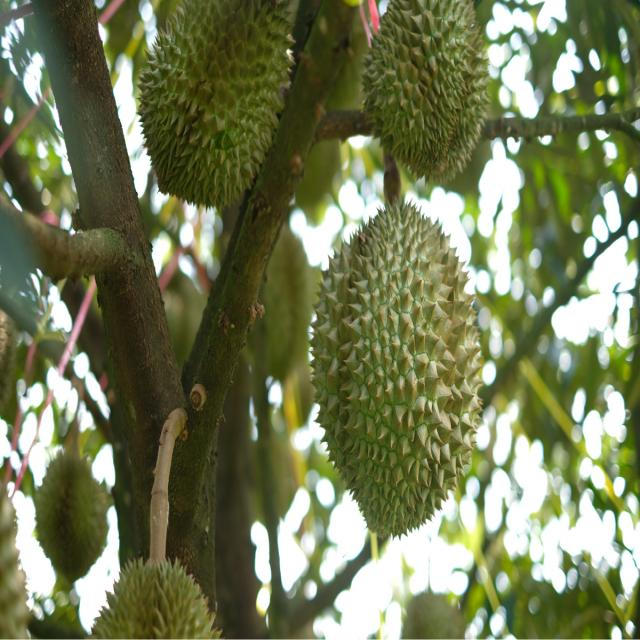immature: (305, 194, 485, 537), (136, 0, 294, 205), (364, 0, 494, 183)
